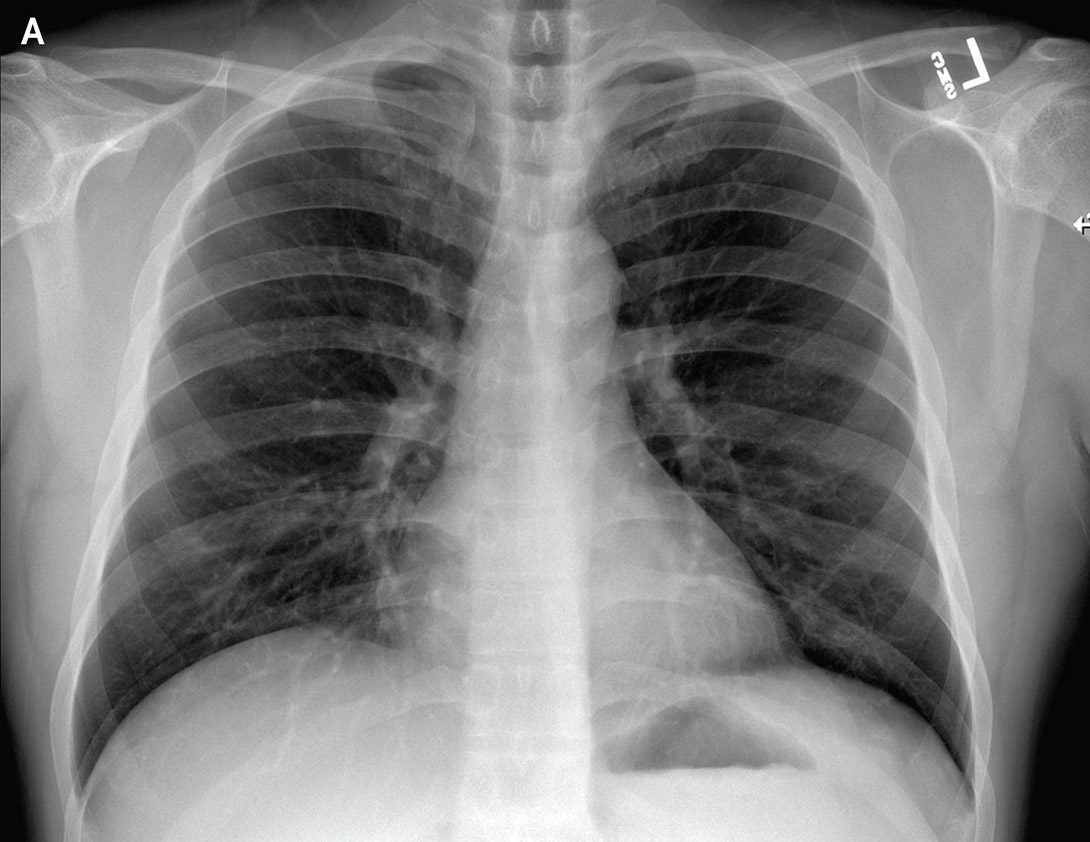Mildw: (74, 54, 501, 842), (572, 56, 979, 802)
